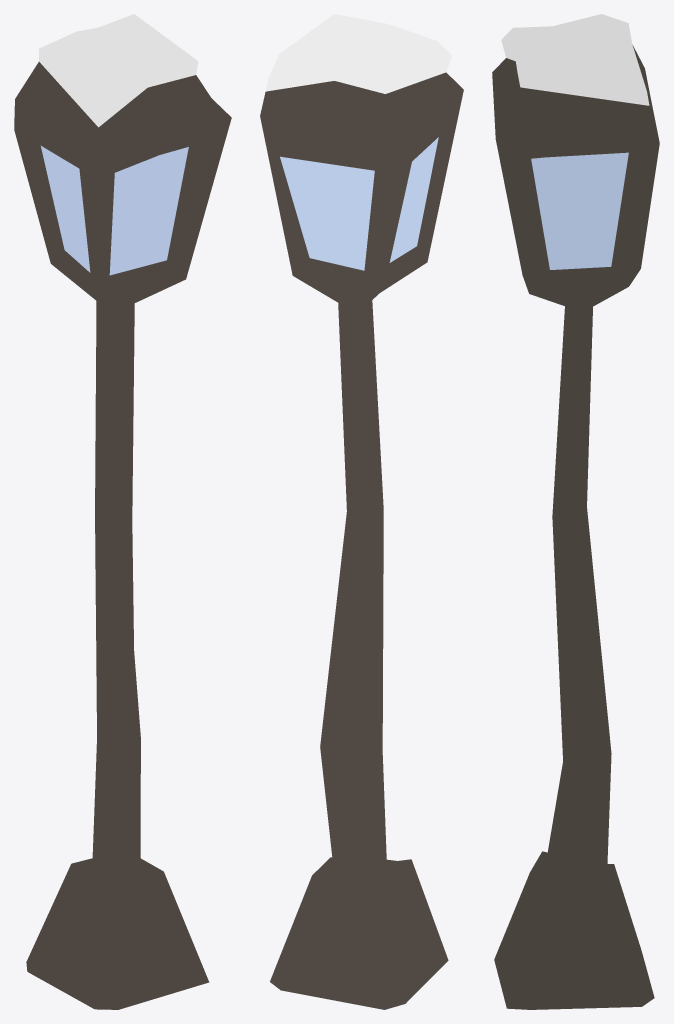
File: streetlamp_02.dae
3 renders of one model, left to right at view 1: azimuth 30°, elevation 25°; view 2: azimuth 150°, elevation 25°; view 3: azimuth 270°, elevation 25°, orthographic.
Visible parts, largest first — view 1: streetlamp_02-0; view 2: streetlamp_02-0; view 3: streetlamp_02-0.
Boxes of the visible parts, x1=… form: streetlamp_02-0: x1=14, y1=14, x2=231, y2=1009; streetlamp_02-0: x1=260, y1=14, x2=463, y2=1009; streetlamp_02-0: x1=492, y1=14, x2=659, y2=1009.
Bounding box in the file's own units: 0.9301 × 5.43 × 0.8675.
